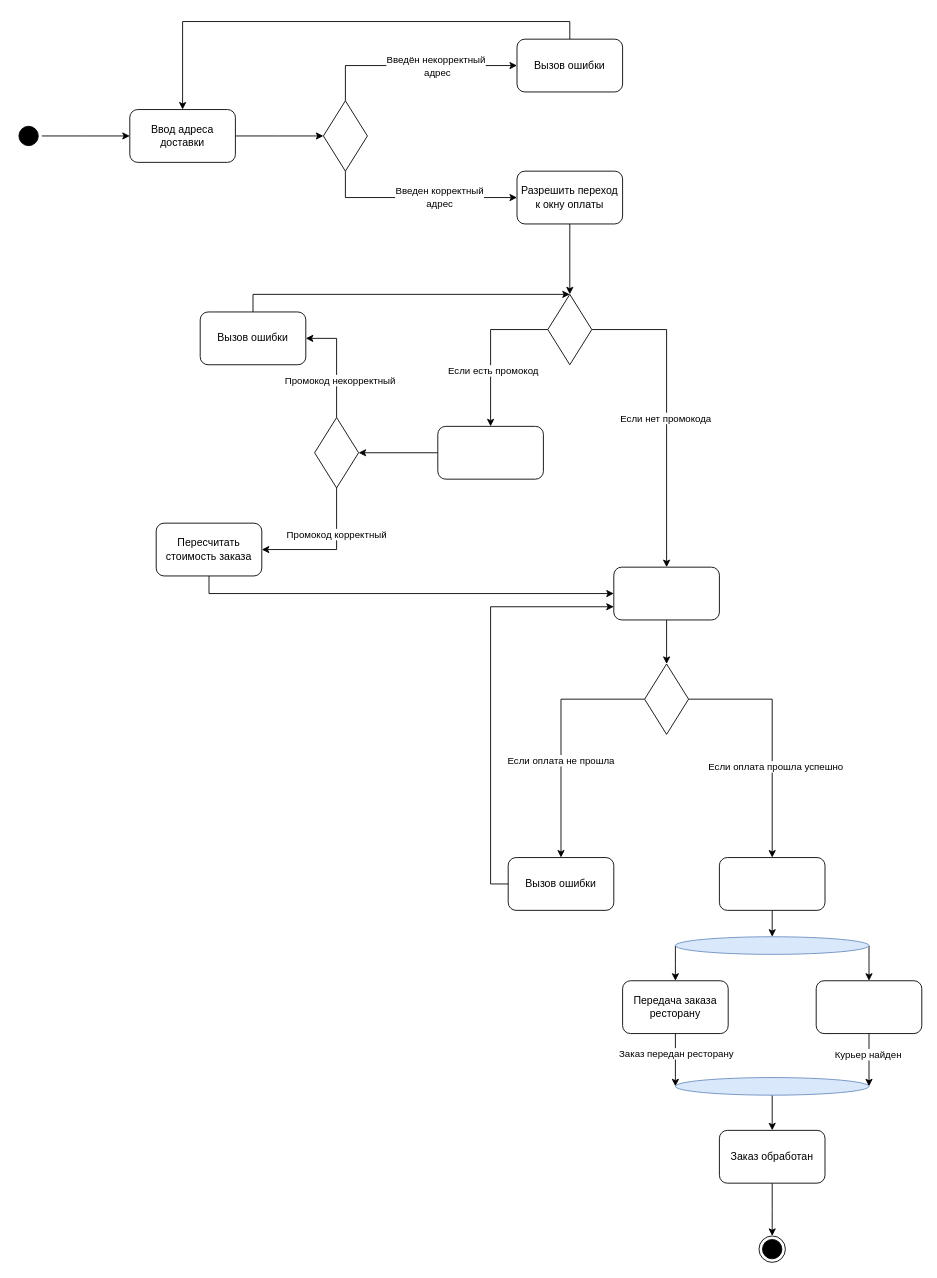
This 937x1278 diagram has some shape labels left out. Each missing label, with the box of its shape:
Ввести промокод: (437, 425, 543, 479)
Заказ подтверждён: (719, 857, 825, 910)
Начать оплату: (613, 566, 719, 620)
Поиск курьера: (815, 980, 922, 1034)
